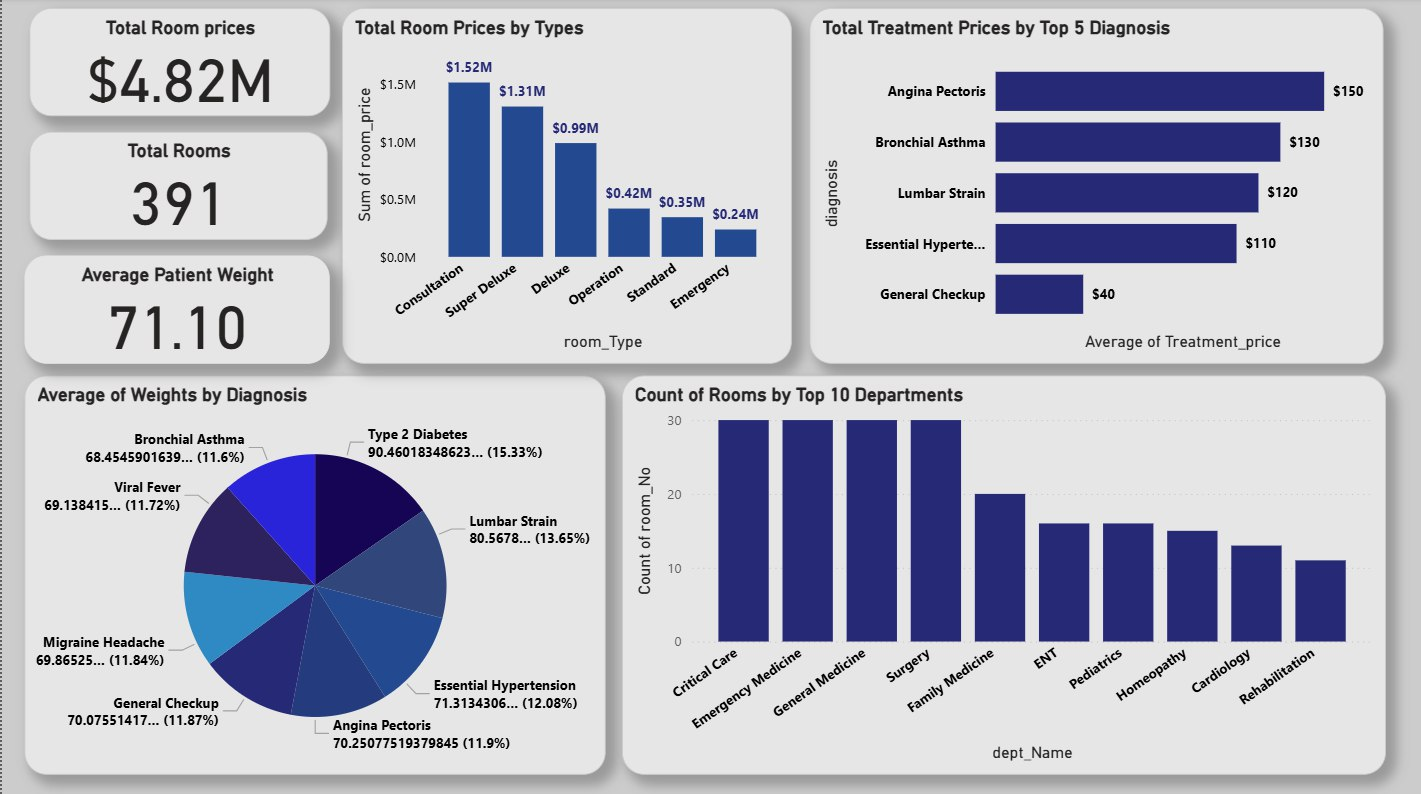

The dashboard page shown, as its layout file describes it:
{"tool":"powerbi","page":{"name":"4","canvas":[1280,720],"ordinal":3},"visuals":[{"type":"card","title":"Total Room prices","fields":{"Values":["Sum(Room.room_price)"]},"box":[24.4,9,271.1,97.6],"z":0},{"type":"card","title":"Total Rooms","fields":{"Values":["CountNonNull(Room.room_No)"]},"box":[24.4,120.8,268.5,97.6],"z":1000},{"type":"pieChart","title":"Average of Weights by Diagnosis","fields":{"Category":["MedicalRecords.diagnosis"],"Y":["Avg(MedicalRecords.curr_Weight)"]},"box":[20.6,340.4,524.1,359.7],"z":2000},{"type":"barChart","title":"Total Treatment Prices by Top 5 Diagnosis","fields":{"Category":["MedicalRecords.diagnosis"],"Y":["Avg(MedicalRecords.Treatment_price)"]},"box":[728.4,9,517.7,321.2],"z":3000},{"type":"columnChart","title":"Total Room Prices by Types","fields":{"Category":["Room.room_Type"],"Y":["Sum(Room.room_price)"]},"box":[307,9,405.9,321.2],"z":4000},{"type":"columnChart","title":"Count of Rooms by Top 10 Departments","fields":{"Category":["Department.dept_Name"],"Y":["CountNonNull(Room.room_No)"]},"box":[558.8,340.4,688.6,359.7],"z":5000},{"type":"card","title":"Average Patient Weight","fields":{"Values":["Avg(MedicalRecords.curr_Weight)"]},"box":[20.6,232.5,274.9,97.6],"z":8000}]}

Visuals, with their boxes in screenshot pixels (x1, y1, x2, y2), scaled from the page's 1280x720 canvas onto the 1421x794 screenshot:
"Total Room prices" card: <bbox>27, 10, 328, 118</bbox>
"Total Rooms" card: <bbox>27, 133, 325, 241</bbox>
"Average of Weights by Diagnosis" pieChart: <bbox>23, 375, 605, 772</bbox>
"Total Treatment Prices by Top 5 Diagnosis" barChart: <bbox>809, 10, 1383, 364</bbox>
"Total Room Prices by Types" columnChart: <bbox>341, 10, 791, 364</bbox>
"Count of Rooms by Top 10 Departments" columnChart: <bbox>620, 375, 1385, 772</bbox>
"Average Patient Weight" card: <bbox>23, 256, 328, 364</bbox>
